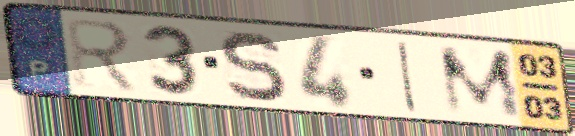3: (139, 22, 205, 98)
4: (296, 30, 356, 111)
I: (395, 38, 420, 115)
M: (434, 46, 527, 120)
R: (62, 15, 144, 96)
S: (215, 28, 290, 104)
